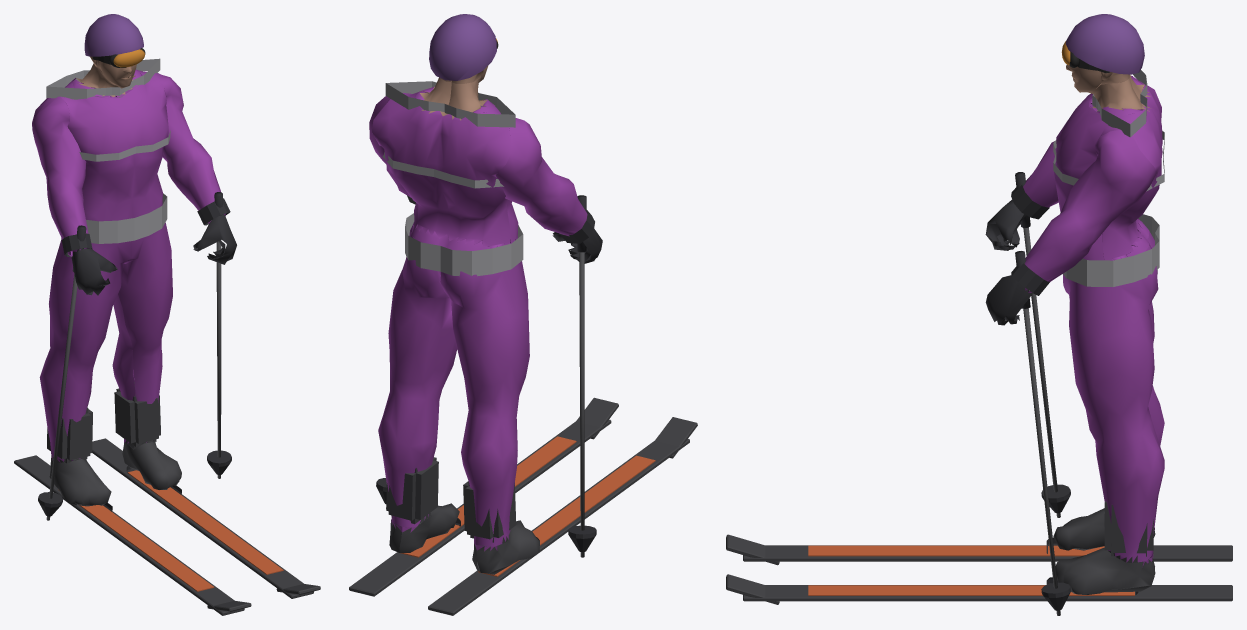
File: guest-3.glb
3 renders of one model, left to right at view 1: azimuth 30°, elevation 25°; view 2: azimuth 150°, elevation 25°; view 3: azimuth 270°, elevation 25°, orthographic. The views are drawn at different scales.
Visible parts, largest first — view 1: guest-3; view 2: guest-3; view 3: guest-3.
Part boxes in pixels (<box>): guest-3: <box>14,14,320,615</box>; guest-3: <box>349,14,697,615</box>; guest-3: <box>726,14,1232,615</box>.
Size of the model in its own units: 0.7367 by 1.77 by 1.44.
